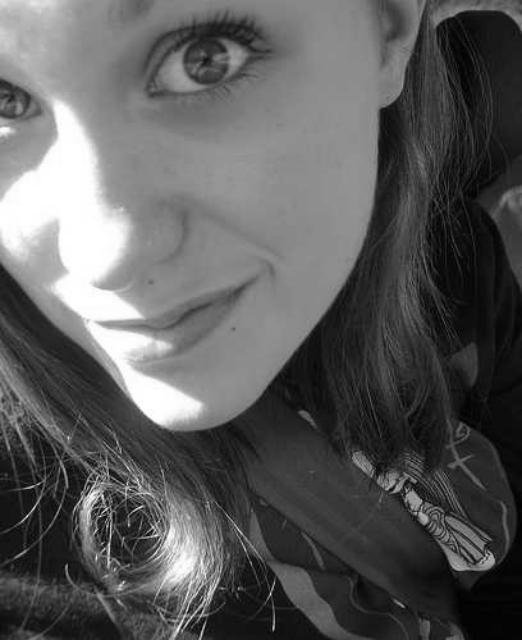SafeDriving: (124, 5, 290, 121), (0, 58, 68, 148)
Seatbelt: (226, 376, 462, 628)
